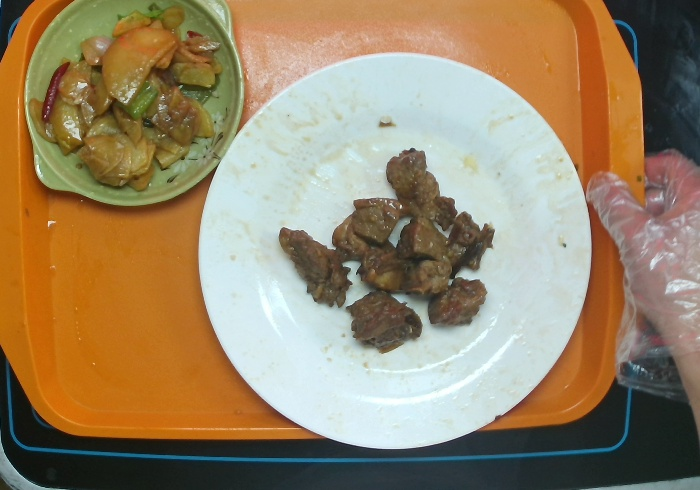NLDX-Da_Yuan_Pan: (196, 50, 597, 454)
NLDX-Lv_Hua_Shuang_Er_Die: (20, 1, 248, 207)
